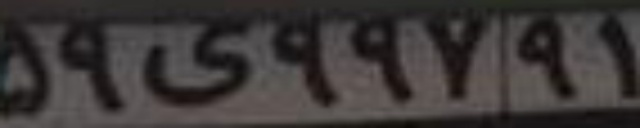1: (596, 14, 639, 98)
5: (3, 20, 50, 114)
7: (422, 14, 488, 99)
9: (267, 16, 340, 107), (56, 19, 125, 109), (346, 17, 414, 102), (513, 16, 579, 98)
ye: (138, 20, 259, 108)
